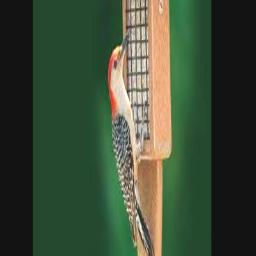Woodpecker: (108, 28, 154, 256)
